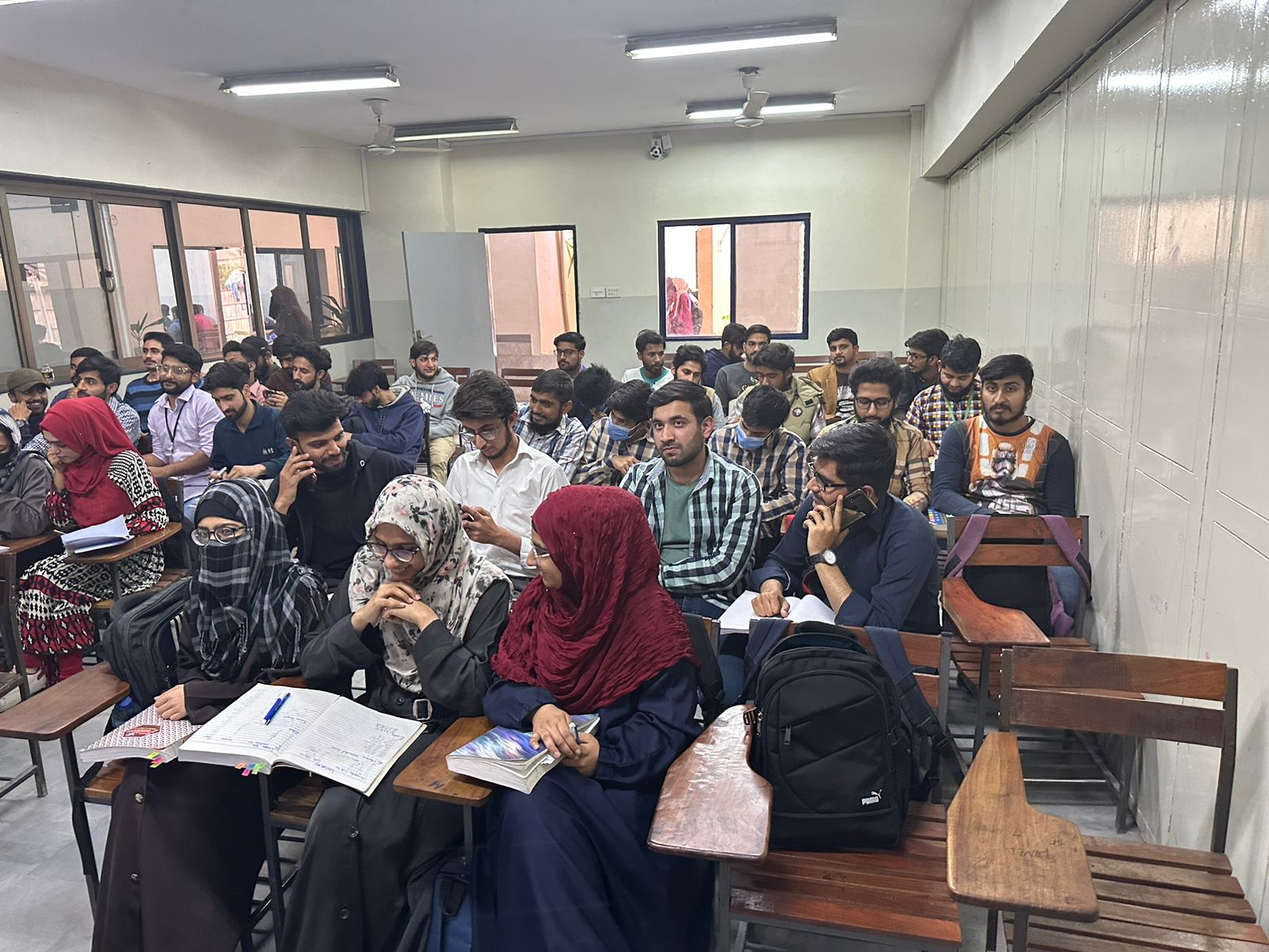non-cheating: (191, 476, 277, 587), (646, 380, 715, 468), (451, 371, 518, 459), (296, 389, 349, 473), (44, 397, 109, 464), (982, 354, 1034, 425), (736, 383, 790, 451), (852, 358, 904, 425), (528, 369, 575, 433), (204, 361, 251, 421), (606, 380, 650, 442), (939, 337, 981, 394), (160, 345, 203, 395), (76, 355, 122, 398), (290, 343, 332, 390), (553, 331, 586, 371), (826, 327, 859, 366), (140, 331, 166, 370), (747, 324, 769, 362)
phone: (803, 487, 879, 540), (285, 436, 319, 492), (260, 387, 289, 411)
